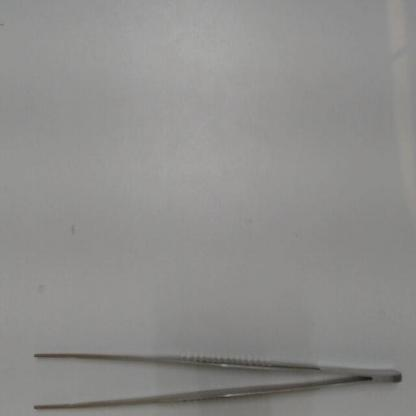DeBakey Dissector: (20, 345, 410, 412)
